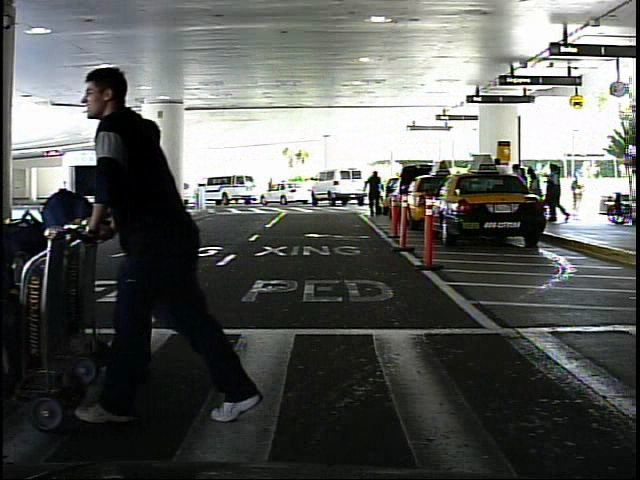person: (87, 48, 266, 427), (362, 167, 387, 223), (571, 171, 589, 217), (111, 171, 129, 209)
